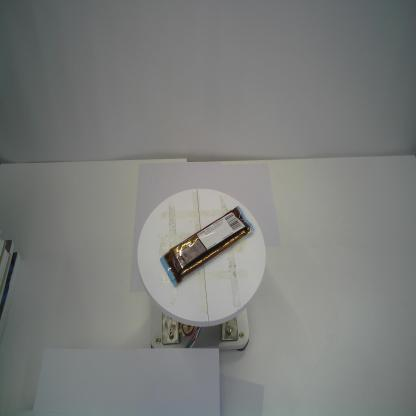Chocolate: (158, 204, 257, 290)
